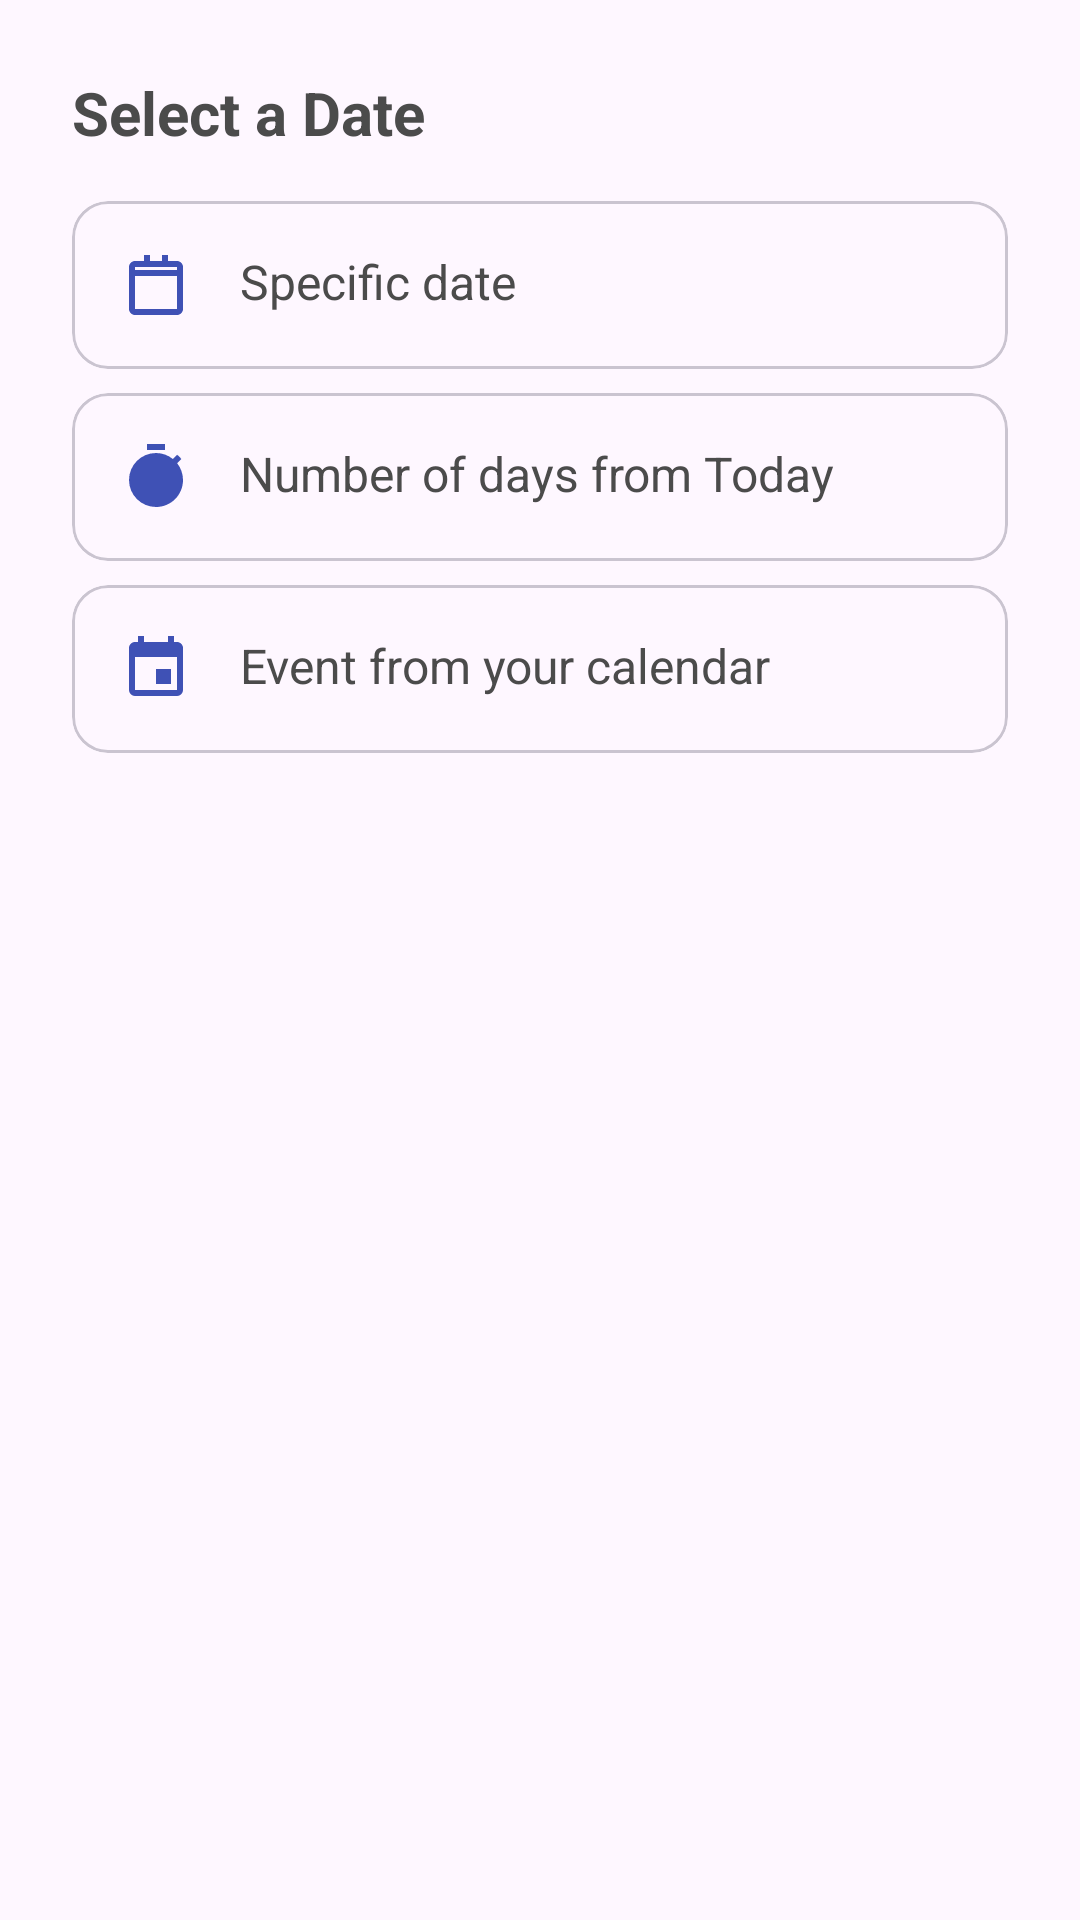

Point at icon controls on the screen. Image size 1080px x 1920px, points as [x,y].
calendar: [156,285]
timer: [156,475]
